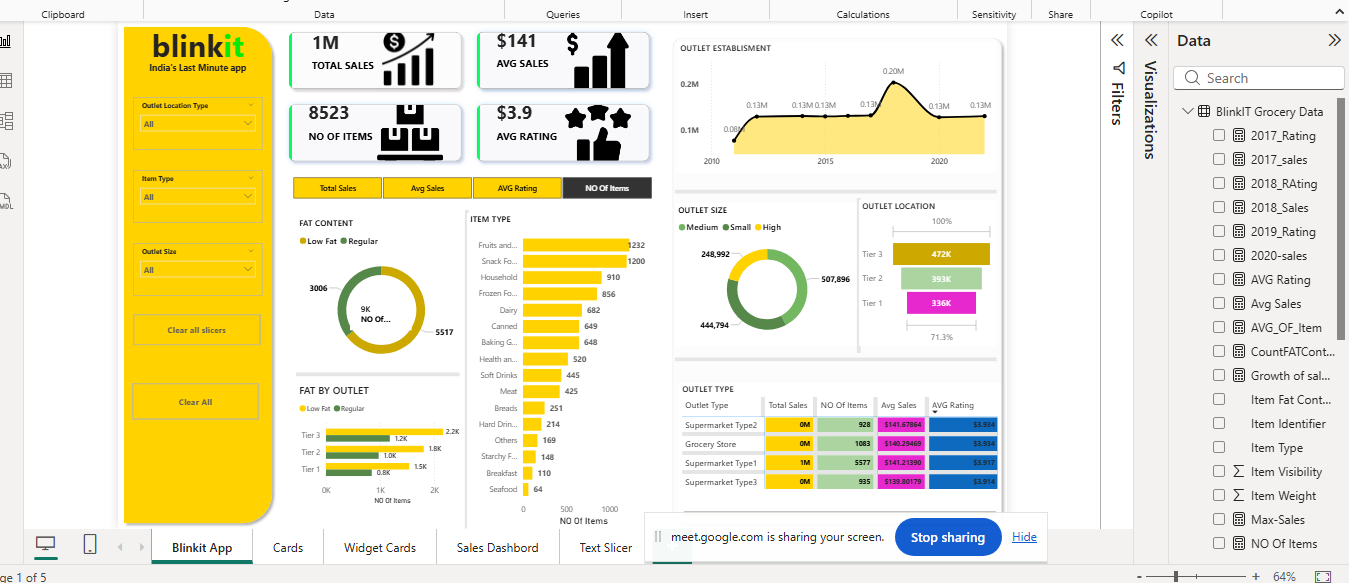

The dashboard page shown, as its layout file describes it:
{"tool":"powerbi","page":{"name":"Blinkit App","canvas":[1400,800],"ordinal":0},"visuals":[{"type":"shape","box":[0,0,251.7,800],"z":0},{"type":"textbox","box":[0,0,251.7,117.6],"z":1000},{"type":"textbox","box":[23.9,58.8,203.9,40.4],"z":2000},{"type":"cardVisual","fields":{"Data":["BlinkIT Grocery Data.Total Sales","BlinkIT Grocery Data.Avg Sales","BlinkIT Grocery Data.NO Of Items","BlinkIT Grocery Data.AVG Rating"]},"box":[252.3,0,602.3,239.3],"z":3000},{"type":"shape","box":[864.9,17,535.9,783],"z":4000},{"type":"slicer","fields":{"Values":["Metrics 2.Metrics"]},"box":[250.7,239.3,613.7,47.2],"z":5000},{"type":"donutChart","title":"FAT CONTENT","fields":{"Y":["BlinkIT Grocery Data.NO Of Items"],"Category":["BlinkIT Grocery Data.Item Fat Content"]},"box":[281.1,308.9,268.7,247.1],"z":6000},{"type":"cardVisual","fields":{"Data":["BlinkIT Grocery Data.NO Of Items"]},"box":[366,432.4,97.3,54.1],"z":7000},{"type":"clusteredBarChart","title":"FAT BY OUTLET","fields":{"Y":["BlinkIT Grocery Data.NO Of Items"],"Series":["BlinkIT Grocery Data.Item Fat Content"],"Category":["BlinkIT Grocery Data.Outlet Location Type"]},"box":[281.1,569.9,268.7,196.1],"z":8000},{"type":"shape","box":[281.1,508.1,257.9,95.8],"z":9000},{"type":"shape","box":[492.7,298.1,112.7,501.9],"z":10000},{"type":"barChart","title":"ITEM TYPE","fields":{"Y":["BlinkIT Grocery Data.NO Of Items"],"Category":["BlinkIT Grocery Data.Item Type"]},"box":[549,302,298,498],"z":11000},{"type":"lineChart","title":"OUTLET ESTABLISMENT","fields":{"Category":["BlinkIT Grocery Data.Outlet Establishment Year"],"Y":["BlinkIT Grocery Data.Total Sales"]},"box":[880.1,33.1,503.4,205.8],"z":12000},{"type":"shape","box":[877.2,484.9,506.6,95.8],"z":13000},{"type":"donutChart","title":"OUTLET SIZE","fields":{"Y":["BlinkIT Grocery Data.Total Sales"],"Category":["BlinkIT Grocery Data.Outlet Size"]},"box":[877.2,287.3,290.3,225.5],"z":14000},{"type":"shape","box":[1110.4,278,112.7,244],"z":15000},{"type":"funnel","title":"OUTLET LOCATION","fields":{"Y":["BlinkIT Grocery Data.Total Sales"],"Category":["BlinkIT Grocery Data.Outlet Location Type"]},"box":[1167.6,282.6,216.2,230.1],"z":16000},{"type":"shape","box":[884.9,532.8,491.1,95.8],"z":17000},{"type":"pivotTable","title":"OUTLET TYPE","fields":{"Rows":["BlinkIT Grocery Data.Outlet Type"],"Values":["BlinkIT Grocery Data.Total Sales","BlinkIT Grocery Data.NO Of Items","BlinkIT Grocery Data.Avg Sales","BlinkIT Grocery Data.AVG Rating"]},"box":[884.1,570.1,506.5,215],"z":18000},{"type":"shape","box":[877.2,236.3,506.6,64.9],"z":19000},{"type":"slicer","fields":{"Values":["BlinkIT Grocery Data.Outlet Location Type"]},"box":[23.2,118.9,203.9,83.4],"z":20000},{"type":"slicer","fields":{"Values":["BlinkIT Grocery Data.Item Type"]},"box":[23.2,234.7,203.9,83.4],"z":21000},{"type":"slicer","fields":{"Values":["BlinkIT Grocery Data.Outlet Size"]},"box":[23.2,349,203.9,83.4],"z":22000},{"type":"actionButton","box":[23.2,461.8,200.8,49.4],"z":23000},{"type":"actionButton","box":[22.4,570.1,200,57.9],"z":24000}]}

Visuals, with their boxes on the page's 1400x800 design canvas (x1, y1, x2, y2). These are canvas units, not pixel positions in the 1349x583 screenshot, which may show the page scaled, cropped or inside an application window:
shape: bbox=[0, 0, 252, 800]
textbox: bbox=[0, 0, 252, 118]
textbox: bbox=[24, 59, 228, 99]
cardVisual - BlinkIT Grocery Data.Total Sales x BlinkIT Grocery Data.Avg Sales: bbox=[252, 0, 855, 239]
shape: bbox=[865, 17, 1401, 800]
slicer - Metrics 2.Metrics: bbox=[251, 239, 864, 286]
"FAT CONTENT" donutChart: bbox=[281, 309, 550, 556]
cardVisual - BlinkIT Grocery Data.NO Of Items: bbox=[366, 432, 463, 486]
"FAT BY OUTLET" clusteredBarChart: bbox=[281, 570, 550, 766]
shape: bbox=[281, 508, 539, 604]
shape: bbox=[493, 298, 605, 800]
"ITEM TYPE" barChart: bbox=[549, 302, 847, 800]
"OUTLET ESTABLISMENT" lineChart: bbox=[880, 33, 1384, 239]
shape: bbox=[877, 485, 1384, 581]
"OUTLET SIZE" donutChart: bbox=[877, 287, 1168, 513]
shape: bbox=[1110, 278, 1223, 522]
"OUTLET LOCATION" funnel: bbox=[1168, 283, 1384, 513]
shape: bbox=[885, 533, 1376, 629]
"OUTLET TYPE" pivotTable: bbox=[884, 570, 1391, 785]
shape: bbox=[877, 236, 1384, 301]
slicer - BlinkIT Grocery Data.Outlet Location Type: bbox=[23, 119, 227, 202]
slicer - BlinkIT Grocery Data.Item Type: bbox=[23, 235, 227, 318]
slicer - BlinkIT Grocery Data.Outlet Size: bbox=[23, 349, 227, 432]
actionButton: bbox=[23, 462, 224, 511]
actionButton: bbox=[22, 570, 222, 628]
